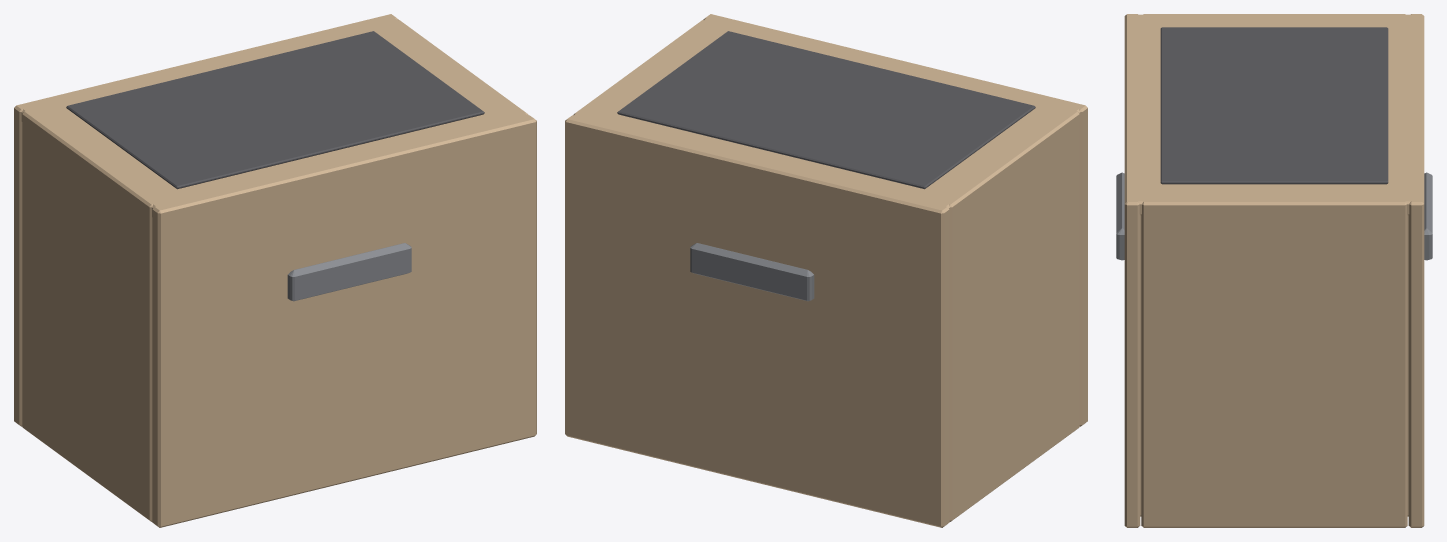
File: plyo.glb
3 renders of one model, left to right at view 1: azimuth 30°, elevation 25°; view 2: azimuth 150°, elevation 25°; view 3: azimuth 270°, elevation 25°, orthographic. The views are drawn at different scales.
Parts seen in each view (by area): view 1: plyo-box; view 2: plyo-box; view 3: plyo-box.
Part boxes in pixels (x1,y1,x2,y2): plyo-box: (14,14,536,527); plyo-box: (565,14,1087,527); plyo-box: (1116,14,1432,527).
Size of the model in its own units: 0.75 by 0.607 by 0.528.
